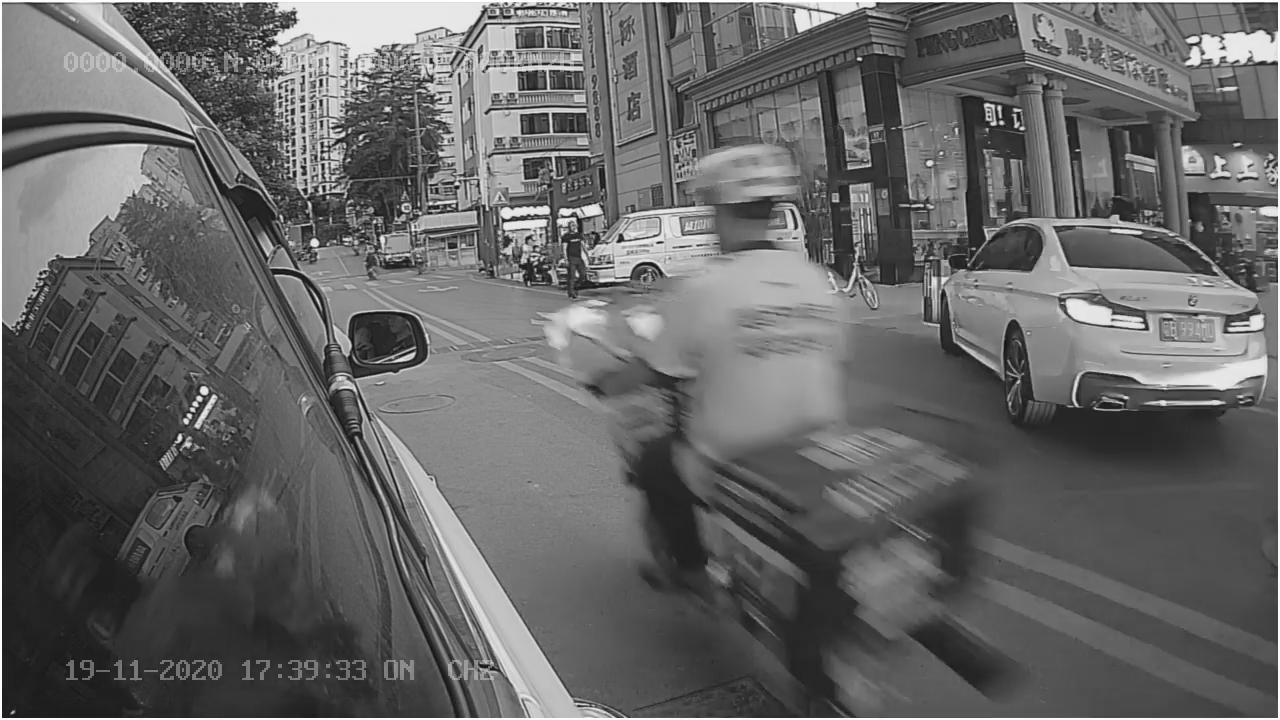person: (640, 144, 859, 433)
